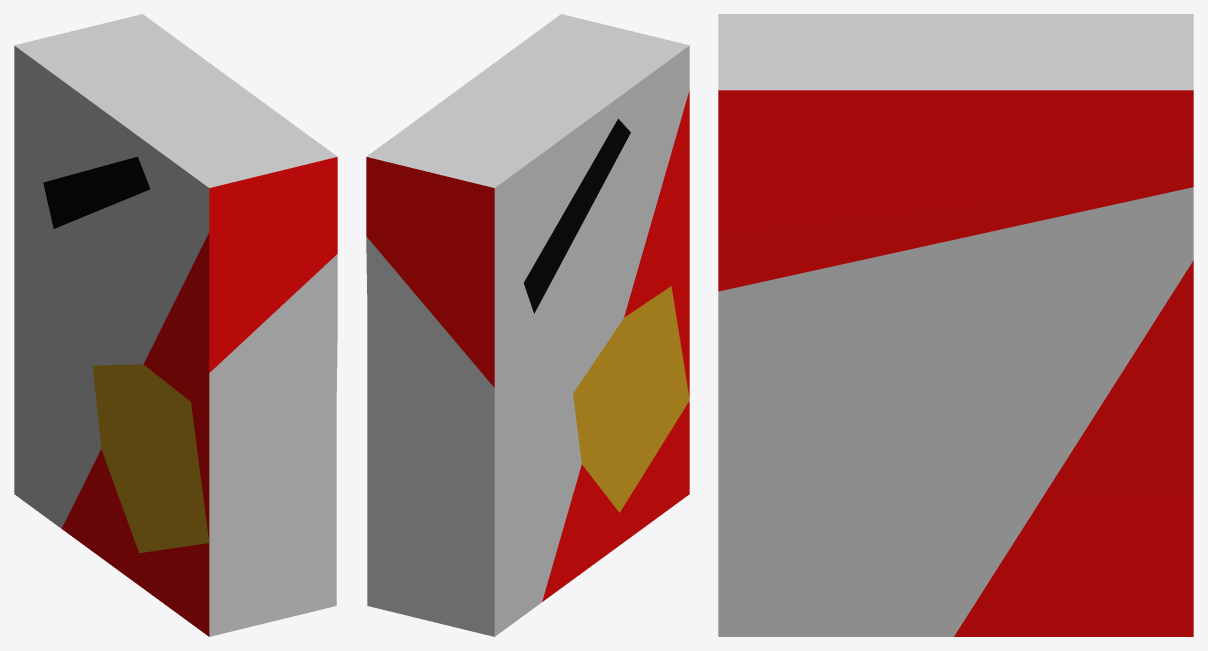
Rendered from kutu.fbx.
3 views of the same model, side by side, from view 1: azimuth 30°, elevation 25°; view 2: azimuth 150°, elevation 25°; view 3: azimuth 270°, elevation 25° (orthographic). The views are drawn at different scales.
Parts seen in each view (by area): view 1: Cube; view 2: Cube; view 3: Cube.
Boxes of the visible parts, bbox=[...] form: Cube: bbox=[14, 14, 337, 636]; Cube: bbox=[366, 14, 689, 636]; Cube: bbox=[718, 14, 1193, 636].
Size of the model in its own units: 59.91 by 200 by 158.
